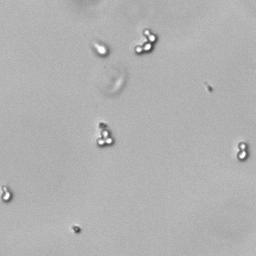budding: (96, 128, 113, 147), (236, 141, 249, 161), (91, 41, 107, 56), (2, 184, 12, 202)
cluster: (132, 27, 159, 56)
